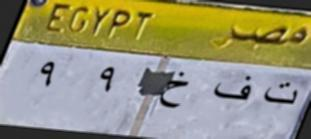9: (36, 57, 64, 93), (92, 66, 120, 94)
faa: (211, 72, 256, 105)
khaa: (160, 69, 191, 117)
taa: (262, 77, 301, 111)
